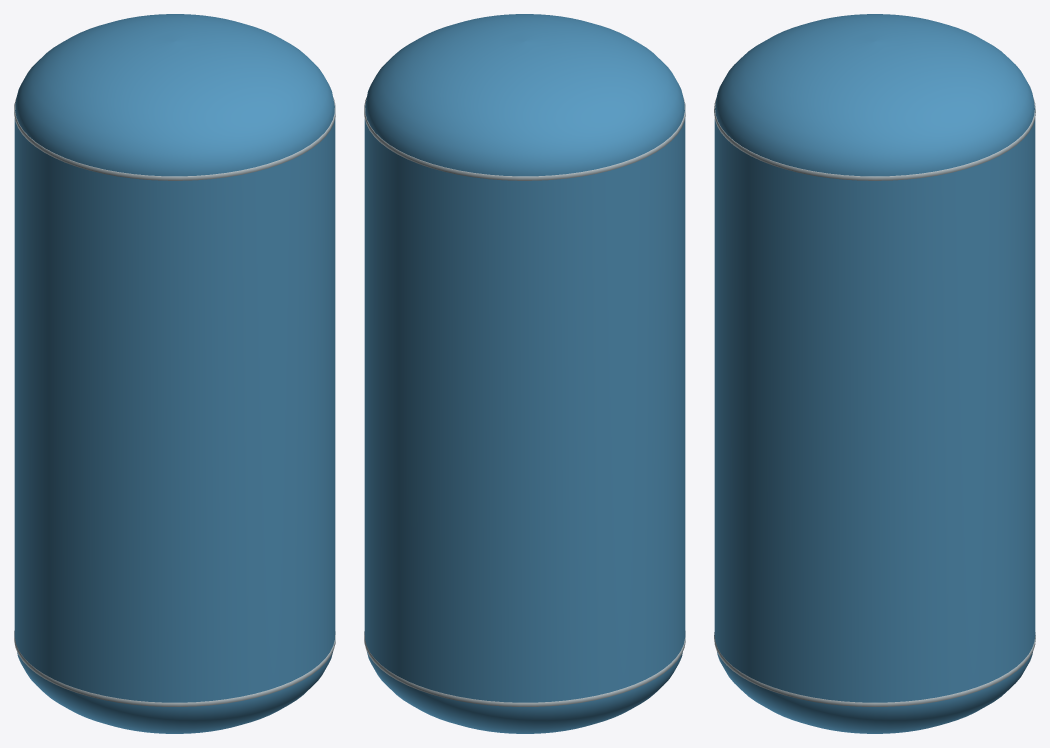
Rendered from s_ic_lox_vessel.glb.
3 views of the same model, side by side, from view 1: azimuth 30°, elevation 25°; view 2: azimuth 150°, elevation 25°; view 3: azimuth 270°, elevation 25° (orthographic).
Parts seen in each view (by area): view 1: s_iccutawaylox_tankmesh.mesh_Cutaway_•_liquid_oxygen, s_iccutawaylox_tankmesh.mesh_Satin_aluminum; view 2: s_iccutawaylox_tankmesh.mesh_Cutaway_•_liquid_oxygen, s_iccutawaylox_tankmesh.mesh_Satin_aluminum; view 3: s_iccutawaylox_tankmesh.mesh_Cutaway_•_liquid_oxygen, s_iccutawaylox_tankmesh.mesh_Satin_aluminum.
Part boxes in pixels (left/top/right/bottom): s_iccutawaylox_tankmesh.mesh_Cutaway_•_liquid_oxygen: left=14, top=14, right=335, bottom=733; s_iccutawaylox_tankmesh.mesh_Satin_aluminum: left=14, top=97, right=335, bottom=706; s_iccutawaylox_tankmesh.mesh_Cutaway_•_liquid_oxygen: left=364, top=14, right=685, bottom=733; s_iccutawaylox_tankmesh.mesh_Satin_aluminum: left=364, top=97, right=685, bottom=706; s_iccutawaylox_tankmesh.mesh_Cutaway_•_liquid_oxygen: left=714, top=14, right=1035, bottom=733; s_iccutawaylox_tankmesh.mesh_Satin_aluminum: left=714, top=98, right=1035, bottom=706.
Bounding box in the file's own units: 9.21 × 21 × 9.21.
